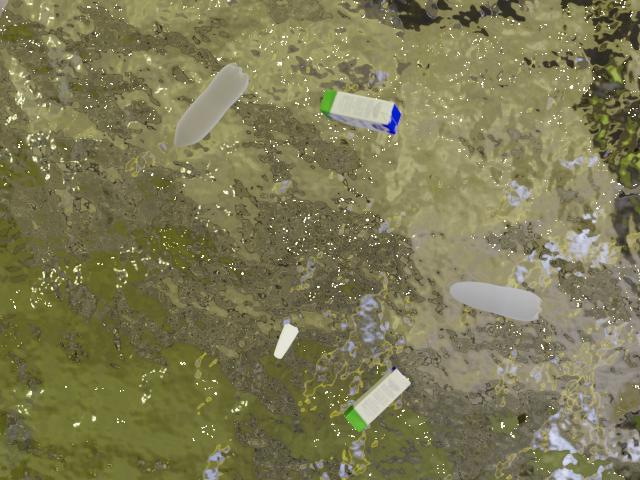Metal: (266, 309, 309, 374)
Plastic: (166, 59, 262, 154), (439, 271, 555, 346)
Trash: (310, 71, 418, 151), (332, 352, 421, 437)
